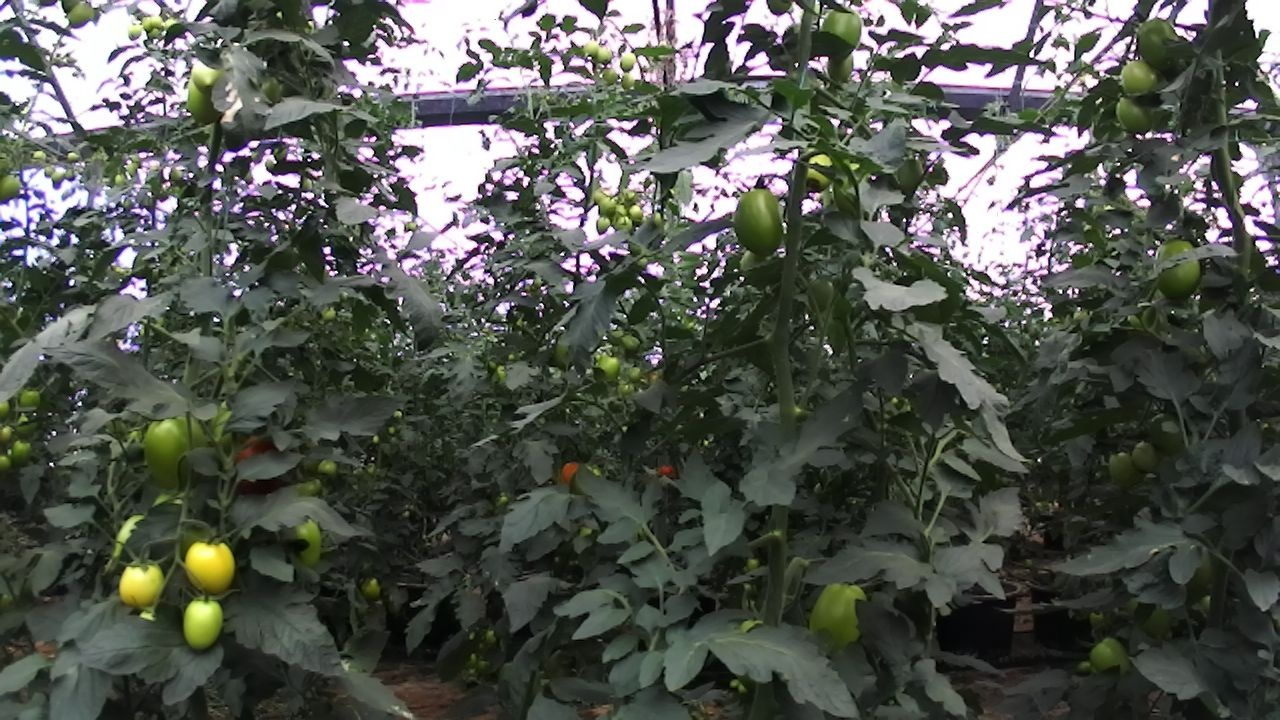tomato: (133, 407, 218, 506), (795, 571, 879, 663), (727, 179, 796, 263), (176, 531, 249, 602), (1149, 231, 1207, 306), (174, 592, 237, 657), (273, 509, 335, 574), (113, 553, 173, 615), (1133, 11, 1190, 73), (798, 143, 846, 201), (1113, 56, 1167, 107), (819, 0, 864, 61), (182, 71, 227, 130), (1082, 631, 1134, 681), (1107, 93, 1159, 139), (187, 54, 233, 100), (1107, 446, 1140, 489), (823, 46, 859, 85), (1129, 437, 1163, 478), (12, 380, 46, 415), (0, 167, 28, 207), (63, 0, 94, 35), (595, 351, 627, 382), (356, 573, 387, 602), (7, 437, 35, 466), (317, 454, 343, 482), (592, 43, 617, 68), (617, 50, 642, 73), (595, 194, 618, 218), (580, 38, 602, 61), (124, 22, 146, 43), (593, 213, 612, 236), (620, 71, 639, 93), (615, 214, 635, 234), (139, 12, 154, 34), (629, 201, 644, 222), (147, 13, 165, 30)
